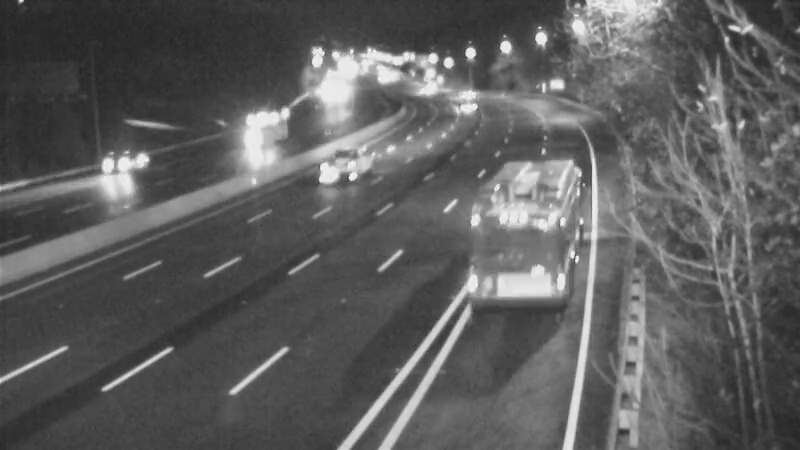vehicle: (293, 121, 373, 201), (485, 180, 565, 260), (92, 124, 172, 204), (401, 68, 451, 118), (440, 69, 490, 119), (447, 85, 497, 135), (233, 106, 283, 156)
